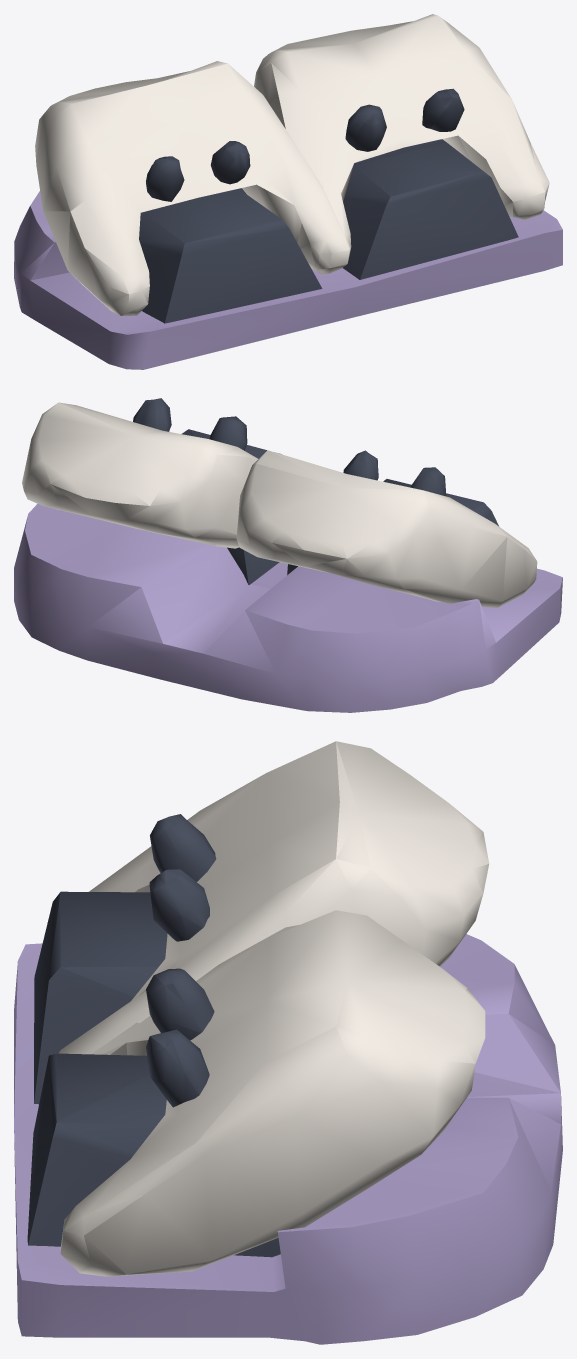
Rendered from gaming_controller_dock.glb.
3 views of the same model, one above another, from view 1: azimuth 30°, elevation 25°; view 2: azimuth 150°, elevation 25°; view 3: azimuth 270°, elevation 25° (orthographic). The views are drawn at different scales.
Bounding box in the file's own units: 0.64 × 0.2519 × 0.4193.
